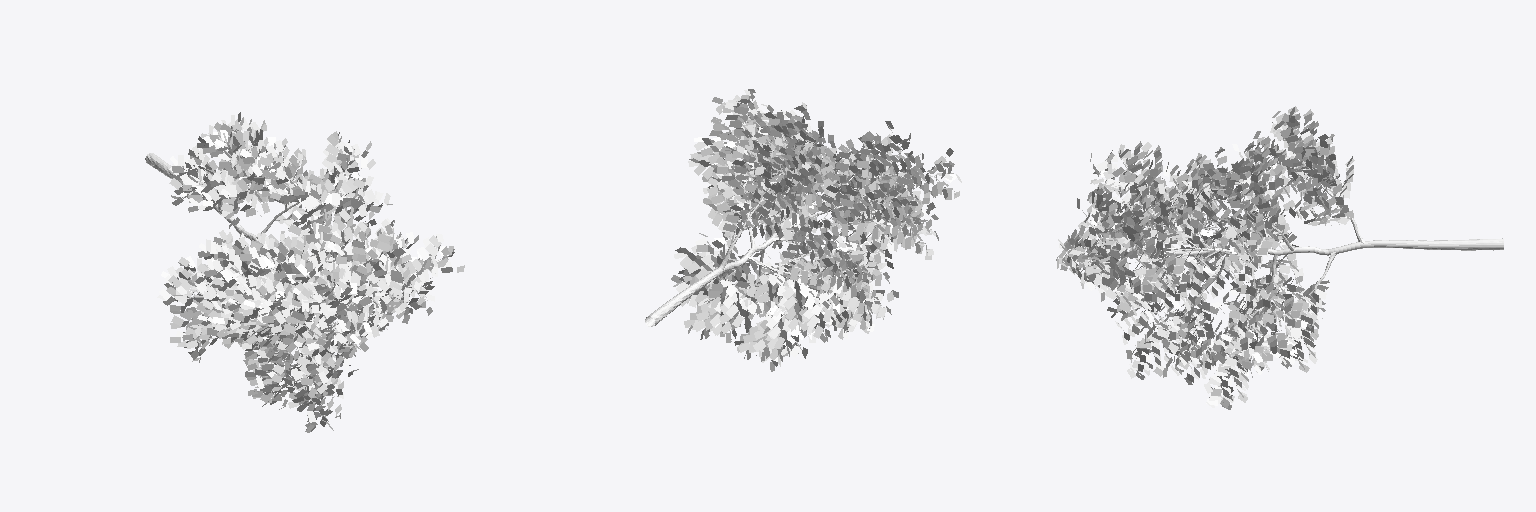
3 views of the same model, side by side, from view 1: azimuth 30°, elevation 25°; view 2: azimuth 150°, elevation 25°; view 3: azimuth 270°, elevation 25° (orthographic).
Parts seen in each view (by area): view 1: AL19y; view 2: AL19y; view 3: AL19y.
Part boxes in pixels (bbox=[...]): AL19y: bbox=[145, 112, 464, 432]; AL19y: bbox=[645, 89, 961, 371]; AL19y: bbox=[1056, 106, 1503, 409].
Bounding box in the file's own units: 29.3 × 35.08 × 50.67.